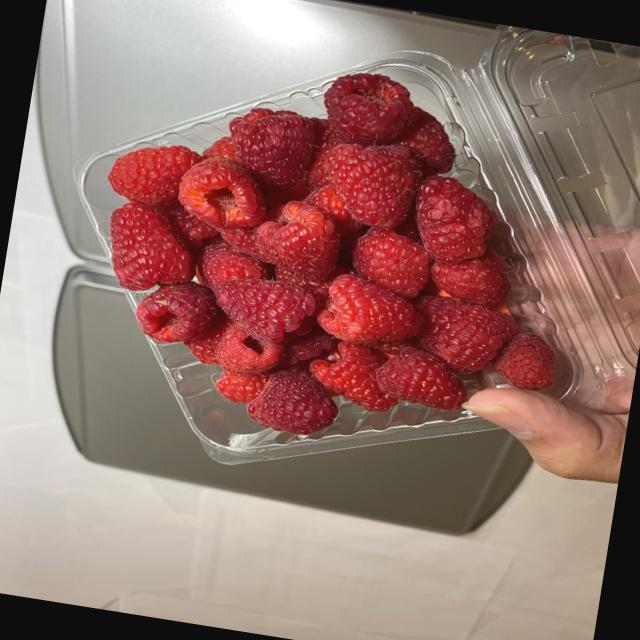raspberries: (93, 110, 572, 453)
